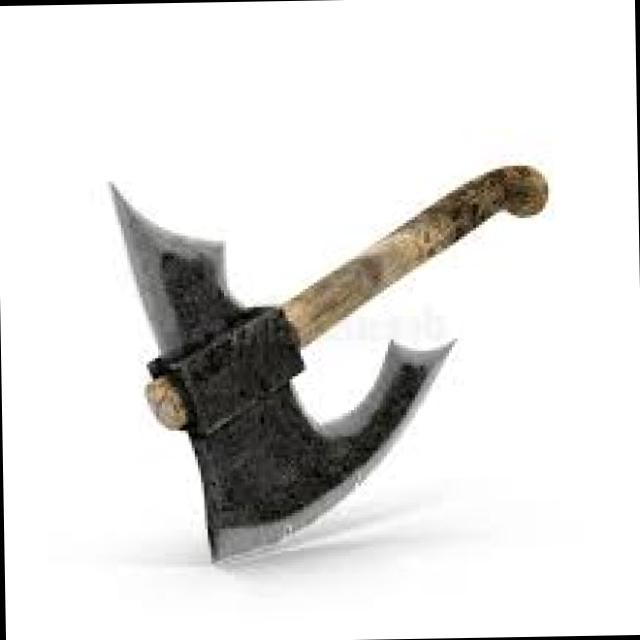Gun: (114, 132, 614, 604)
